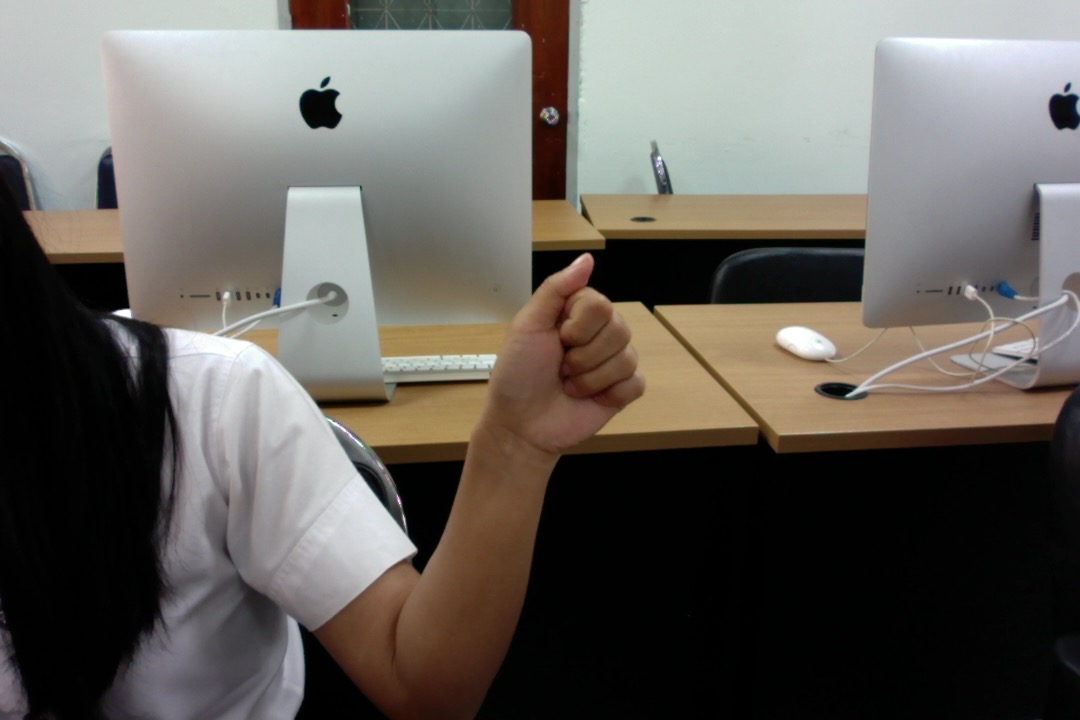or: (467, 249, 652, 464)
